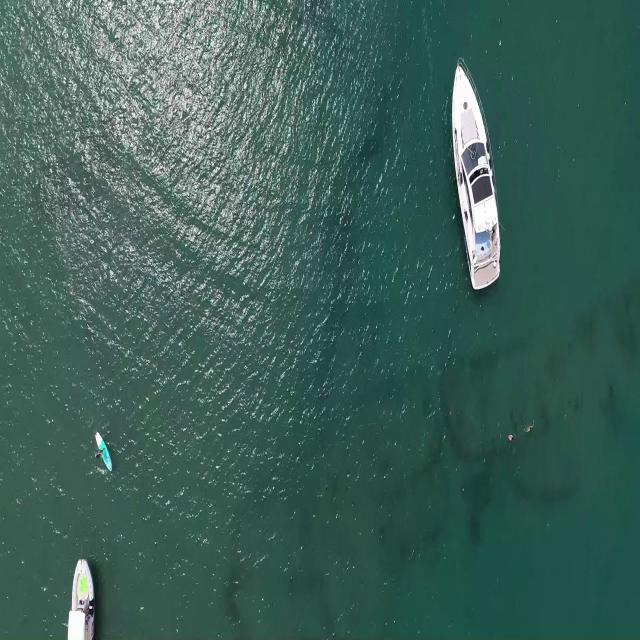boat: (449, 56, 504, 294), (66, 556, 98, 634)
person: (523, 420, 536, 434), (93, 445, 105, 460), (508, 432, 516, 442)
surfboard: (96, 429, 111, 479)
